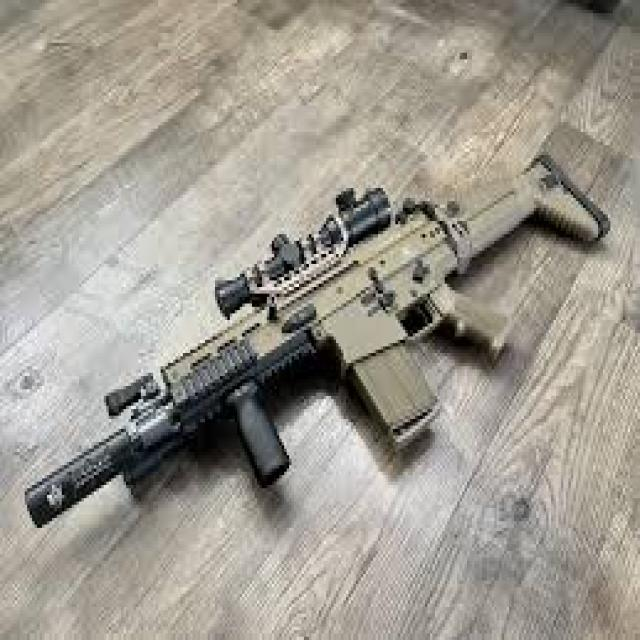Gun: (0, 164, 633, 503)
